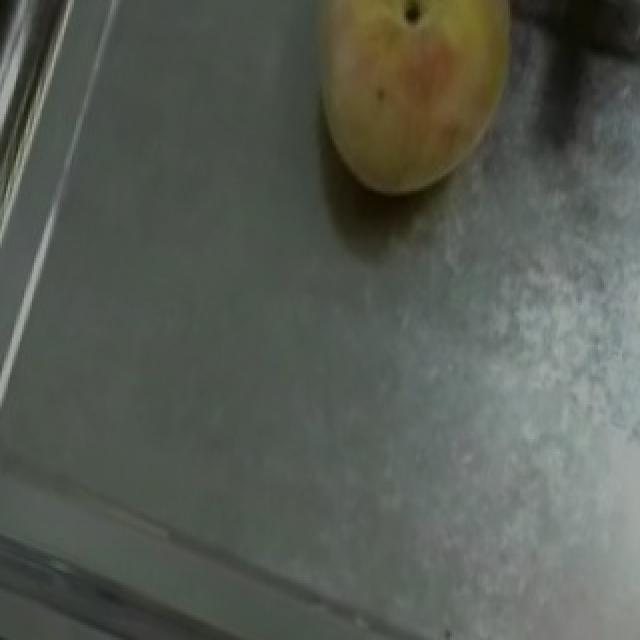Fruit: (268, 0, 532, 223)
